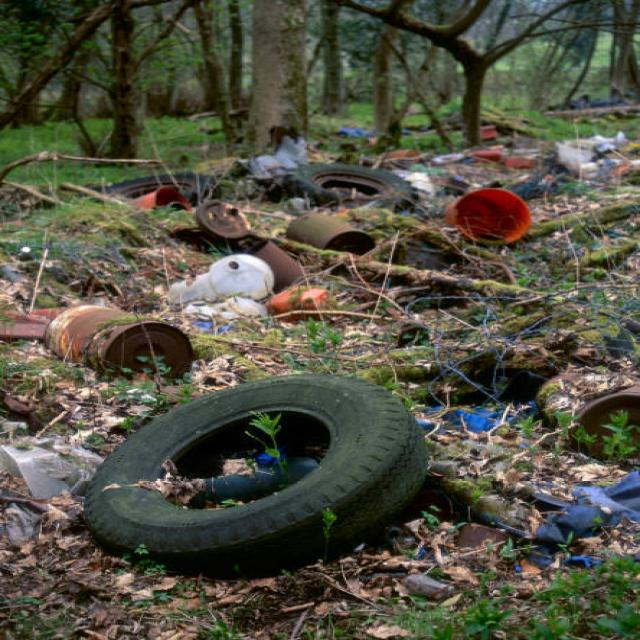plastic: (68, 392, 490, 541)
trash: (94, 152, 607, 374)
